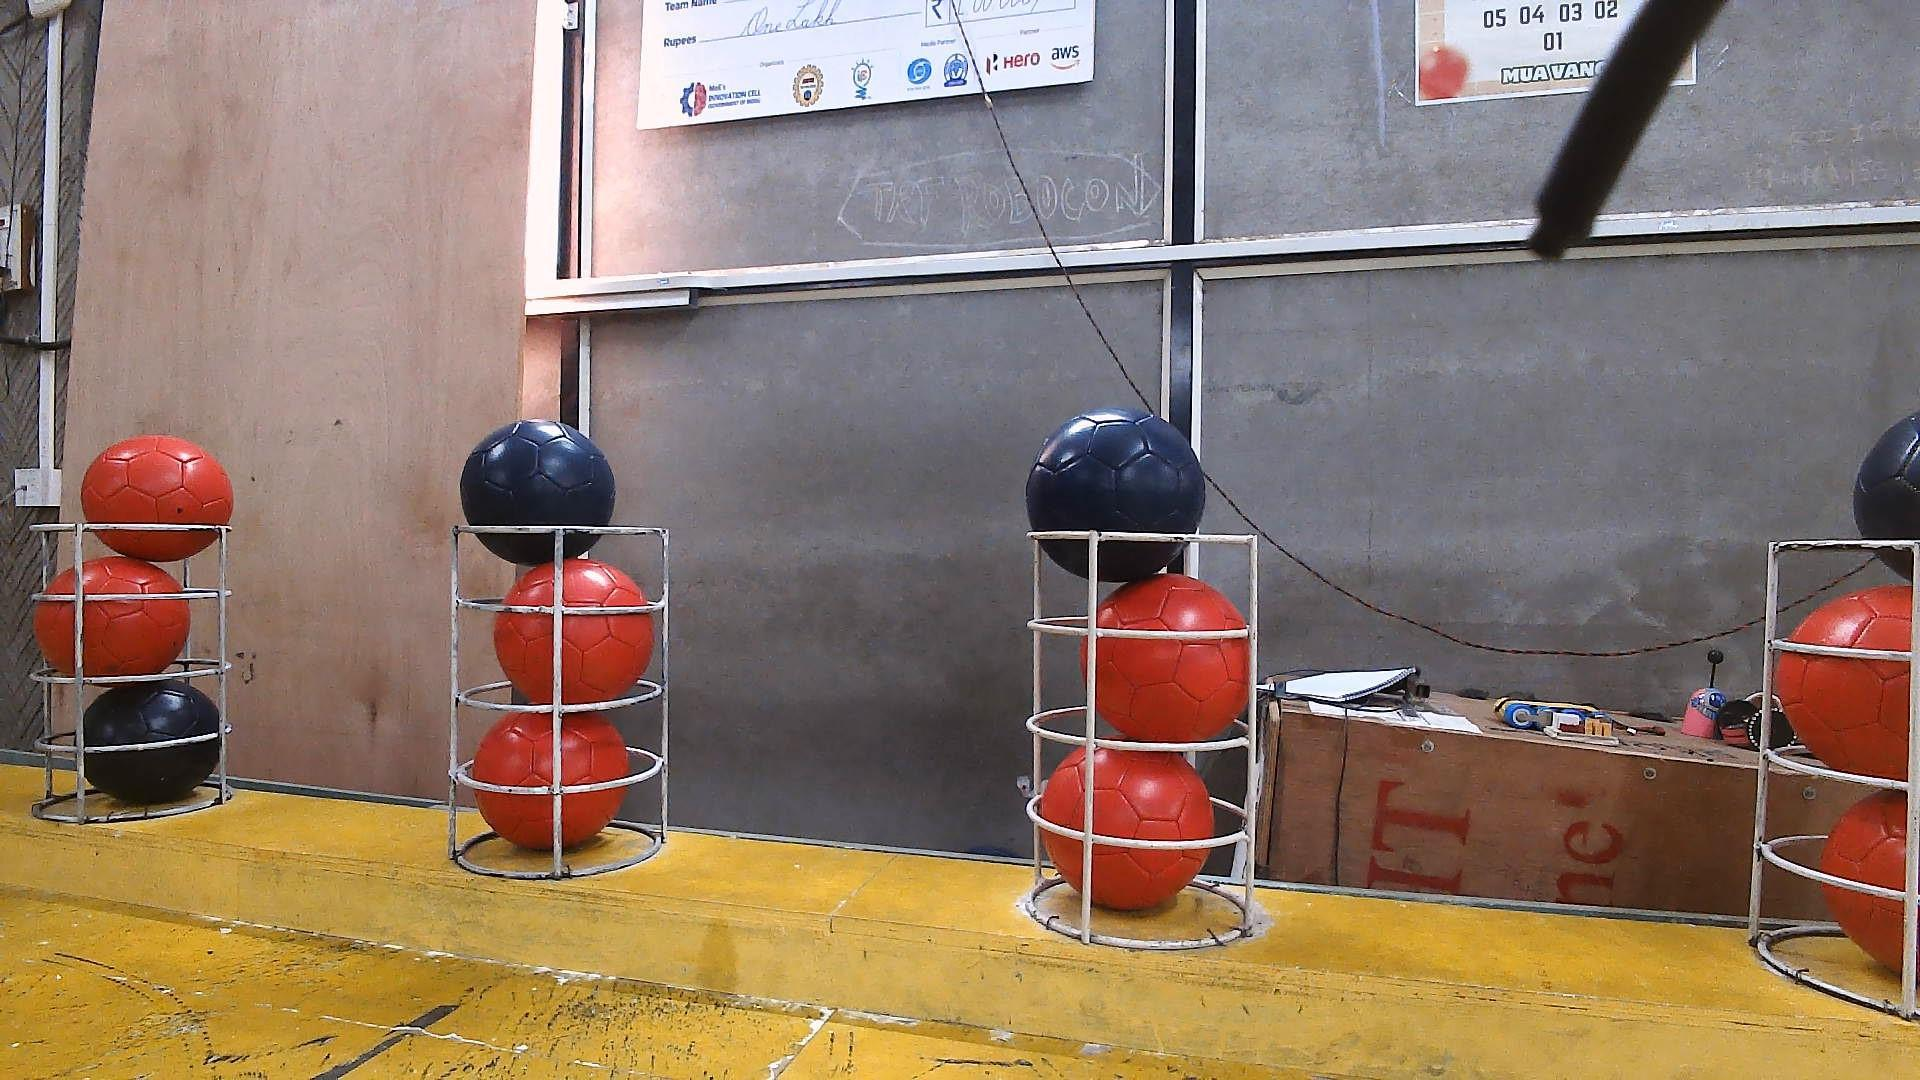dhoka: (1023, 409, 1208, 585), (462, 419, 615, 566), (83, 683, 222, 806), (1853, 413, 1920, 587)
laale: (1035, 746, 1215, 911), (1080, 574, 1253, 742), (1774, 585, 1920, 781), (492, 559, 657, 705), (468, 708, 630, 852), (34, 555, 191, 679), (83, 435, 232, 563), (1818, 791, 1920, 975)
